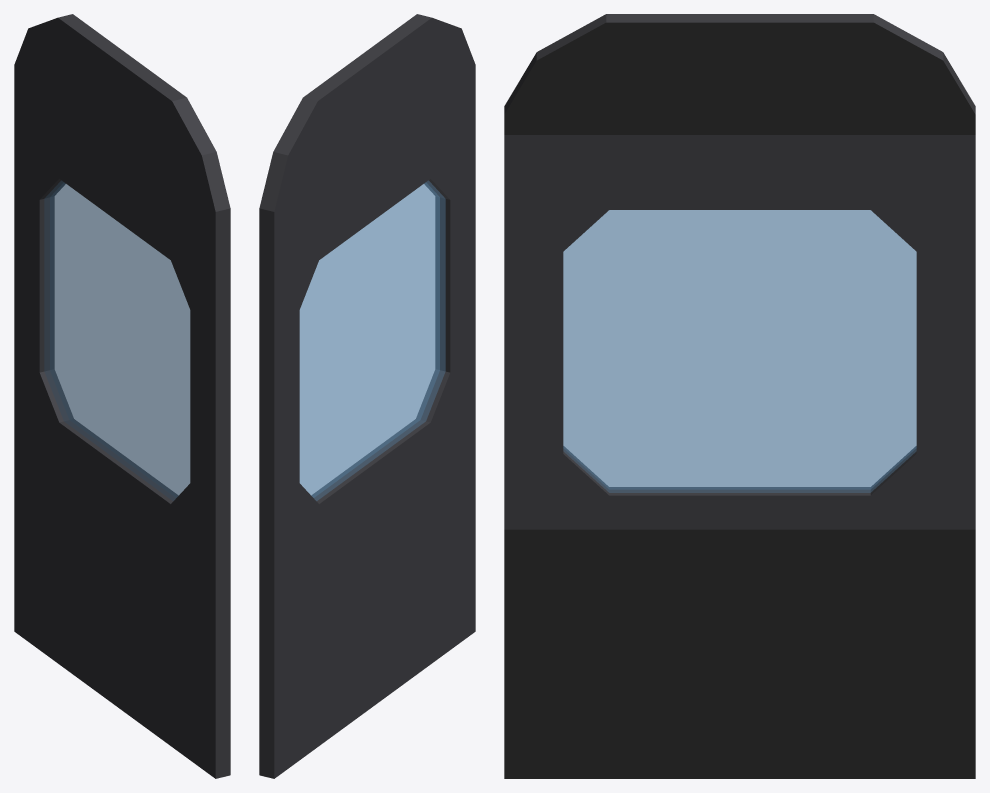
Rendered from Door.fbx.
The picture shows the model from 3 angles, left to right: view 1: azimuth 30°, elevation 25°; view 2: azimuth 150°, elevation 25°; view 3: azimuth 270°, elevation 25°; orthographic projection. The views are drawn at different scales.
Parts seen in each view (by area): view 1: Door; view 2: Door; view 3: Door.
Part boxes in pixels (x1,y1,x2,y2): Door: [14, 14, 230, 778]; Door: [259, 14, 475, 778]; Door: [504, 14, 975, 778].
Bounding box in the file's own units: 5.43 × 225 × 127.
